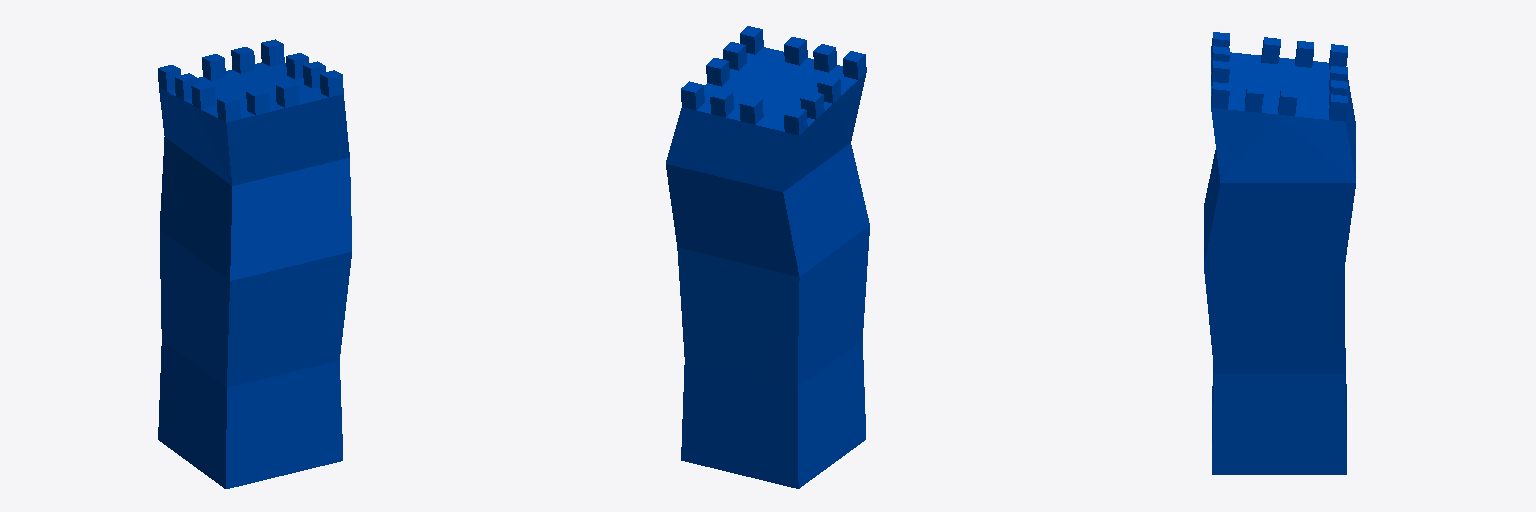
The model's file is TowerMesh.obj.
3 views of the same model, side by side, from view 1: azimuth 30°, elevation 25°; view 2: azimuth 150°, elevation 25°; view 3: azimuth 270°, elevation 25° (orthographic).
Visible parts, largest first — view 1: TowerMesh; view 2: TowerMesh; view 3: TowerMesh.
Boxes of the visible parts, x1=… form: TowerMesh: x1=158, y1=39, x2=351, y2=488; TowerMesh: x1=666, y1=26, x2=869, y2=488; TowerMesh: x1=1204, y1=32, x2=1355, y2=474.
Bounding box in the file's own units: 1.09 × 3.13 × 1.12.